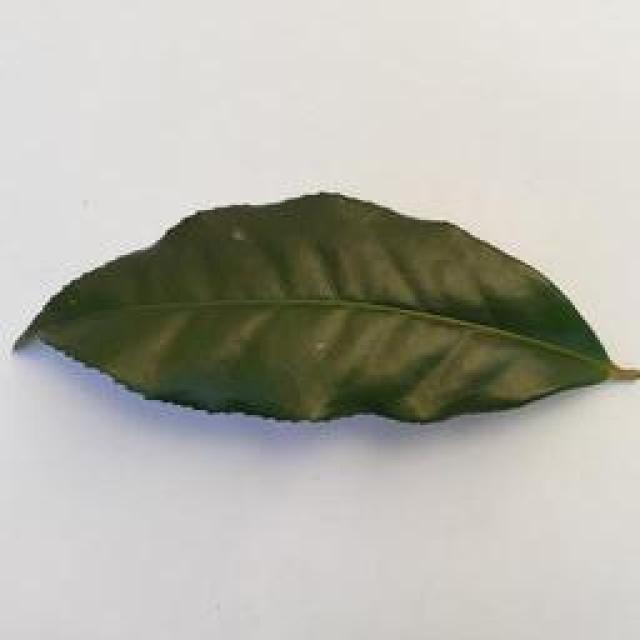Healthy: (14, 189, 637, 431)
